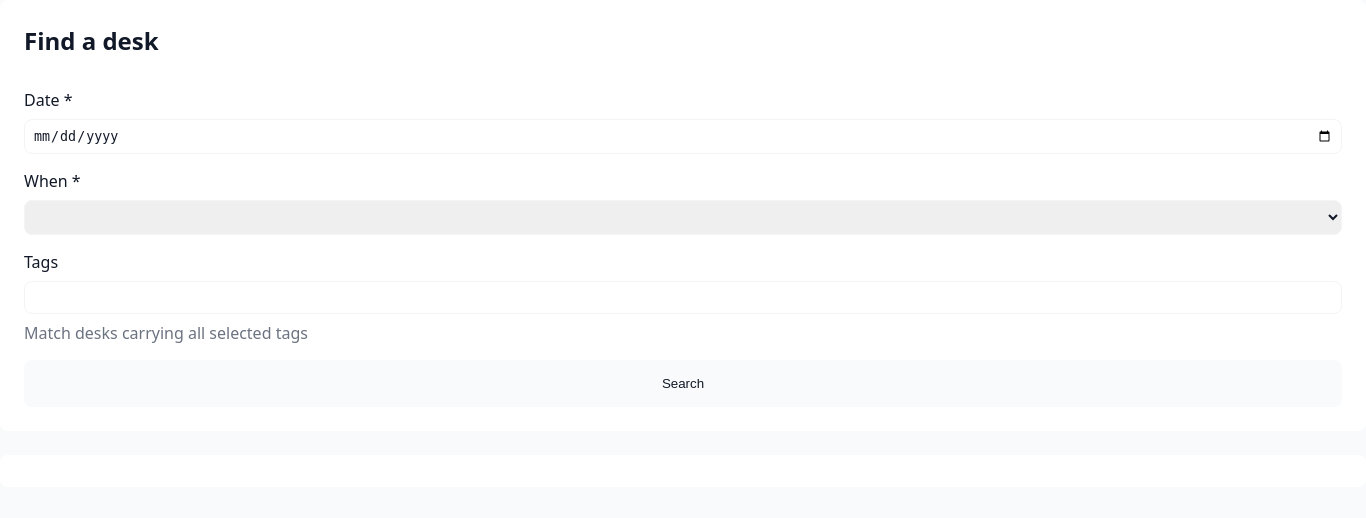
Test: DeskFinder › shows the empty notice when the search returns no desks
Type "2026-07-27" into the date field with id "desk-search-date". click: [683, 137]
box: [24, 119, 1342, 154]
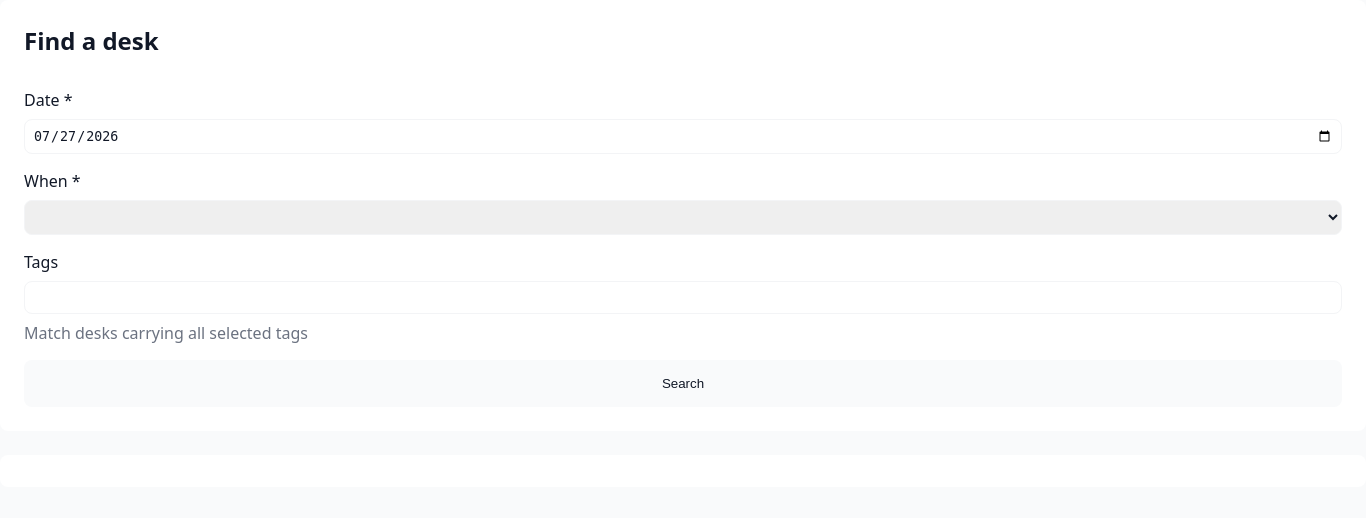
Select "Full day" in the dropdown with id "desk-search-when". click: [683, 218]
box: [24, 200, 1342, 235]
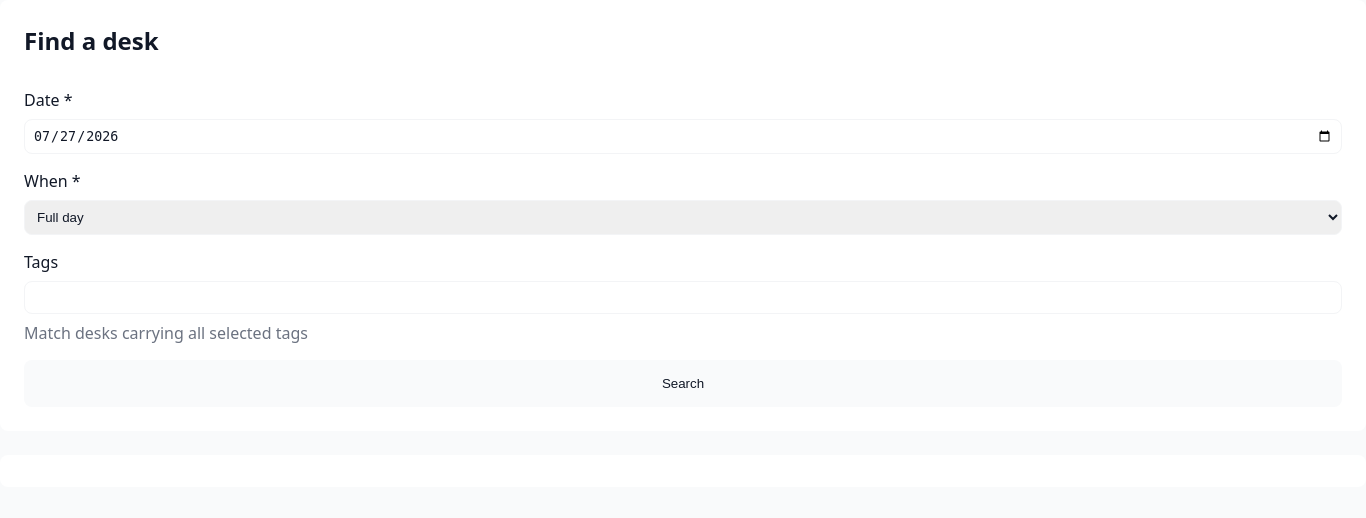
Submit the form
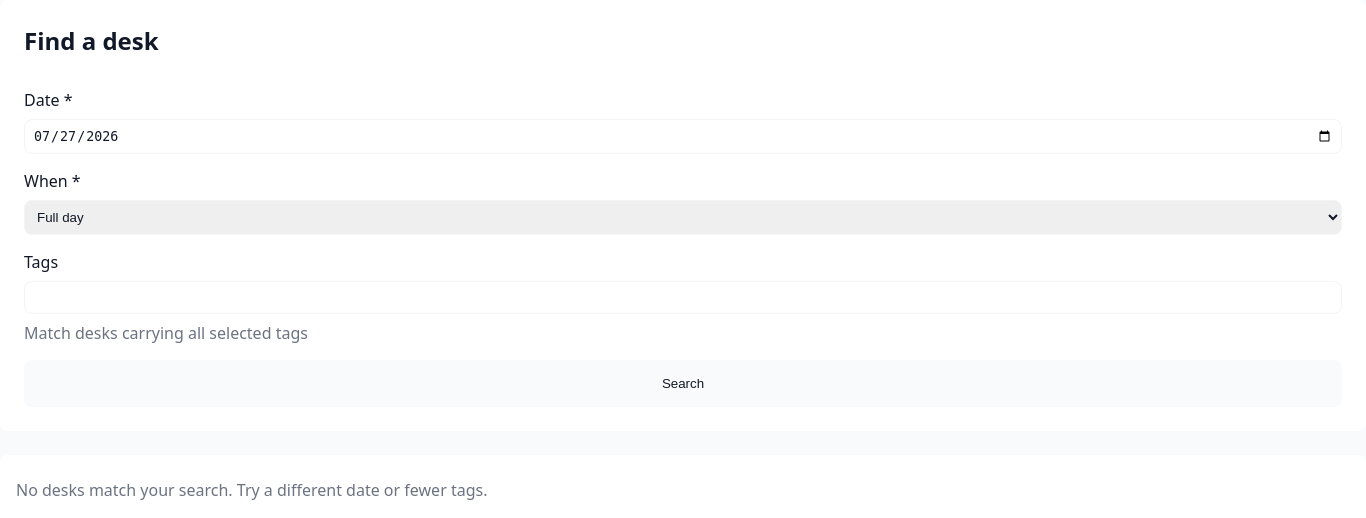
Expected: the text "No desks match your search." is shown, [16, 479, 488, 501]
